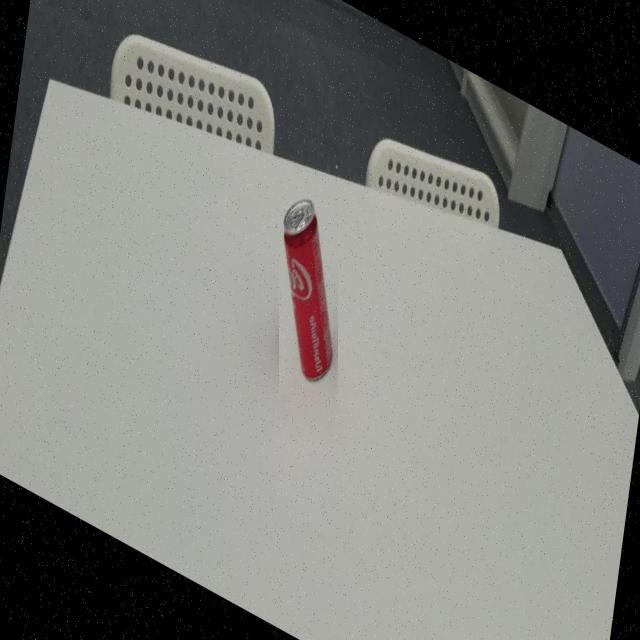coca-cola: (279, 191, 338, 394)
